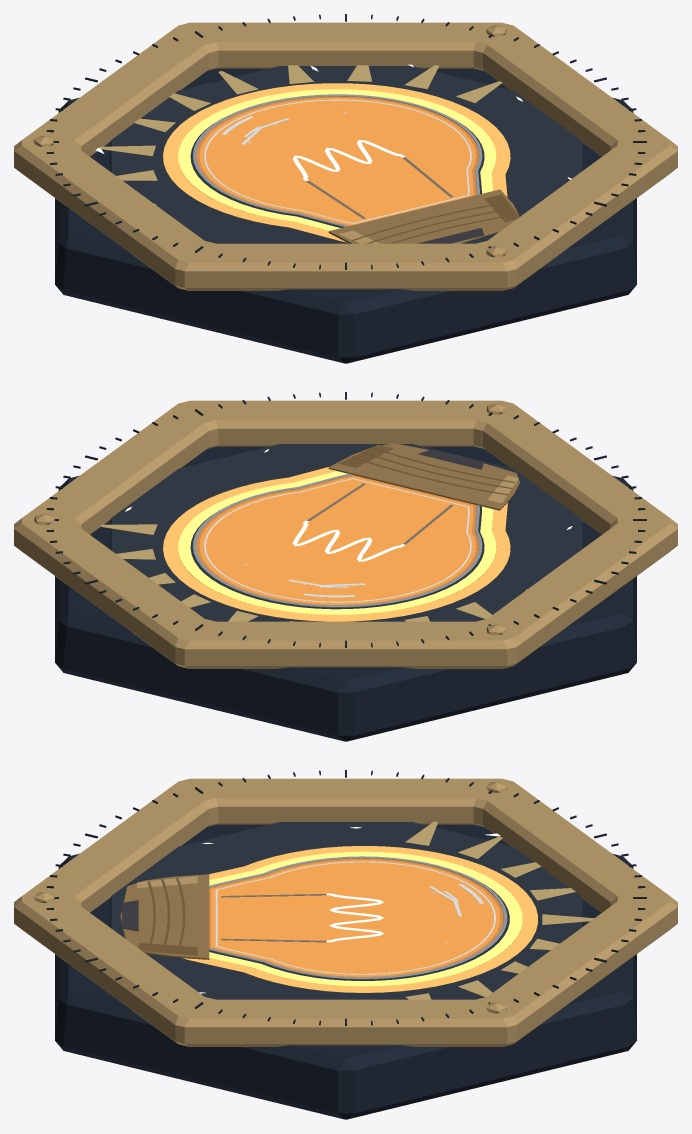
File: curious_dev.glb
3 renders of one model, top to bottom at view 1: azimuth 30°, elevation 25°; view 2: azimuth 150°, elevation 25°; view 3: azimuth 270°, elevation 25°, orthographic.
Parts seen in each view (by area): view 1: BG_FrameRing, BG_BasePlate, CD_GlassFill, BG_Field, CD_HaloOuter, CD_Socket, CD_HaloInner, CD_Rays, CD_Glass, BG_TickScale, CD_InnerShade, CD_GlassInnerLine (+3 smaller); view 2: BG_FrameRing, BG_BasePlate, CD_GlassFill, BG_Field, CD_HaloOuter, CD_Socket, CD_HaloInner, CD_Rays, CD_Glass, CD_InnerShade, BG_TickScale, CD_GlassInnerLine (+4 smaller); view 3: BG_FrameRing, BG_BasePlate, CD_GlassFill, BG_Field, CD_HaloOuter, CD_Socket, CD_HaloInner, CD_Rays, CD_Glass, CD_InnerShade, BG_TickScale, CD_GlassInnerLine (+3 smaller).
Boxes of the visible parts, box(x1,y1,x2,y2) form: BG_FrameRing: box(14, 22, 677, 290); BG_BasePlate: box(55, 68, 636, 363); CD_GlassFill: box(199, 98, 475, 225); BG_Field: box(109, 66, 582, 243); CD_HaloOuter: box(163, 83, 510, 242); CD_Socket: box(328, 189, 519, 243); CD_HaloInner: box(178, 89, 496, 230); CD_Rays: box(99, 65, 502, 180); CD_Glass: box(192, 94, 482, 227); BG_TickScale: box(46, 14, 646, 269); CD_InnerShade: box(196, 96, 478, 225); CD_GlassInnerLine: box(204, 99, 471, 223); BG_FrameRing: box(14, 400, 677, 668); BG_BasePlate: box(55, 446, 636, 741); CD_GlassFill: box(199, 476, 475, 604); BG_Field: box(109, 444, 582, 621); CD_HaloOuter: box(163, 467, 510, 621); CD_Socket: box(328, 443, 519, 510); CD_HaloInner: box(178, 471, 496, 614); CD_Rays: box(100, 524, 491, 621); CD_Glass: box(192, 473, 482, 607); CD_InnerShade: box(196, 475, 478, 605); BG_TickScale: box(46, 392, 646, 647); CD_GlassInnerLine: box(204, 478, 471, 602); BG_FrameRing: box(14, 778, 677, 1046); BG_BasePlate: box(55, 824, 636, 1119); CD_GlassFill: box(211, 860, 500, 976); BG_Field: box(109, 822, 582, 999); CD_HaloOuter: box(182, 846, 537, 992); CD_Socket: box(120, 874, 209, 959); CD_HaloInner: box(209, 851, 522, 986); CD_Rays: box(405, 821, 593, 999); CD_Glass: box(209, 856, 507, 979); CD_InnerShade: box(209, 858, 503, 977); BG_TickScale: box(46, 770, 646, 1025); CD_GlassInnerLine: box(215, 861, 495, 974).
Bounding box in the file's own units: 0.0393 × 0.00585 × 0.0394.
